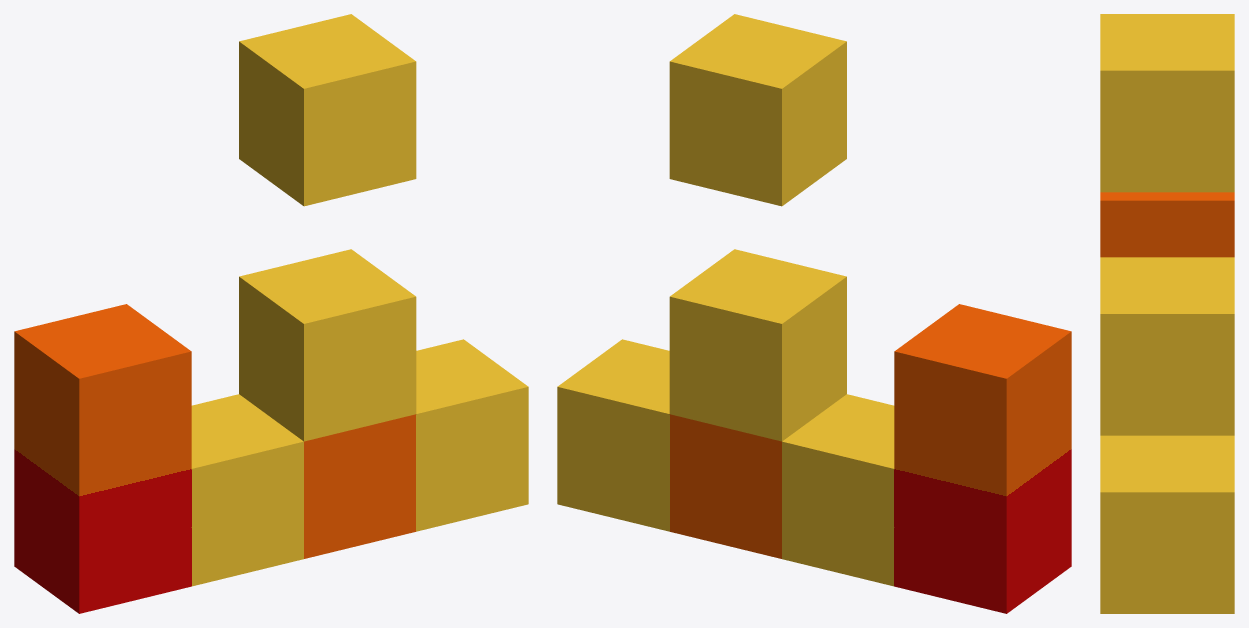
File: obj_fire3.fbx
3 renders of one model, left to right at view 1: azimuth 30°, elevation 25°; view 2: azimuth 150°, elevation 25°; view 3: azimuth 270°, elevation 25°, orthographic. The views are drawn at different scales.
Visible parts, largest first — view 1: obj_fire3; view 2: obj_fire3; view 3: obj_fire3.
Part boxes in pixels (x1,y1,x2,y2): obj_fire3: [14, 14, 528, 613]; obj_fire3: [557, 14, 1071, 613]; obj_fire3: [1100, 14, 1234, 613].
Bounding box in the file's own units: 0.4 × 0.1 × 0.4.
Materials: 1 (1 with a texture image).
